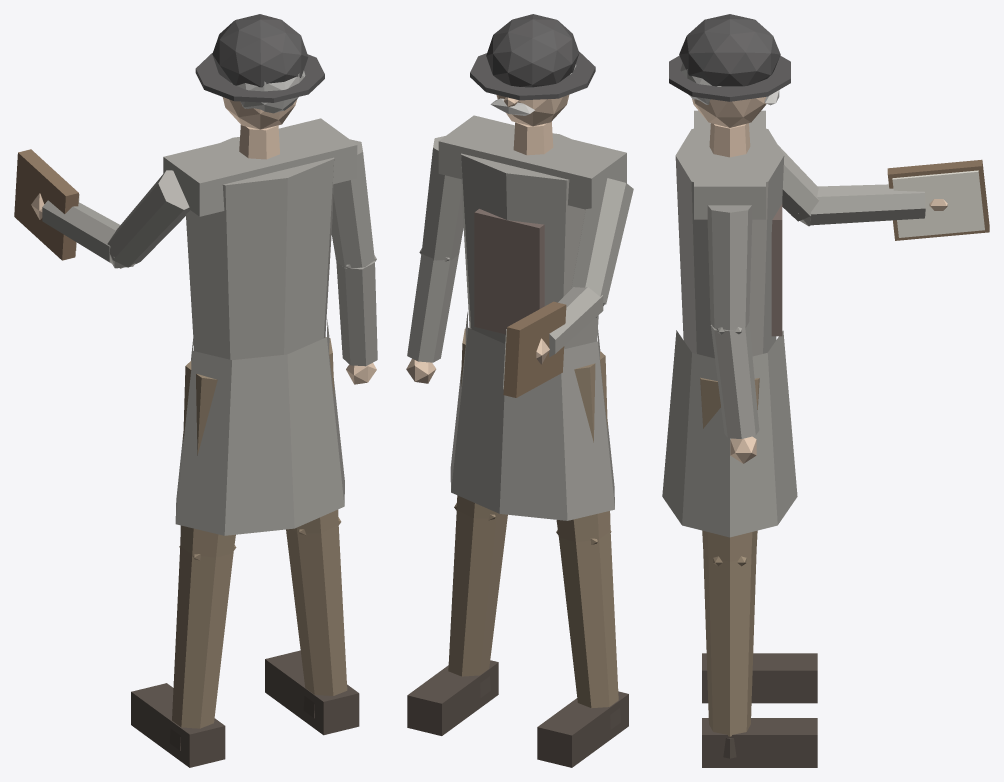
Rendered from toll_keeper.glb.
3 views of the same model, side by side, from view 1: azimuth 30°, elevation 25°; view 2: azimuth 150°, elevation 25°; view 3: azimuth 270°, elevation 25° (orthographic). The views are drawn at different scales.
Visible parts, largest first — view 1: tweed_grey, tweed_brown, boot, wool_black, leather, skin, hair_grey; view 2: tweed_grey, tweed_brown, boot, wool_black, waistcoat, leather, skin, hair_grey; view 3: tweed_grey, tweed_brown, boot, wool_black, paper, skin, leather, waistcoat.
Boxes of the visible parts, x1,y1,x2,y2 form: tweed_grey: [42, 118, 377, 535]; tweed_brown: [172, 337, 347, 728]; boot: [131, 650, 359, 767]; wool_black: [195, 14, 324, 102]; leather: [14, 149, 78, 260]; skin: [31, 97, 376, 384]; hair_grey: [231, 70, 305, 113]; tweed_grey: [407, 115, 633, 520]; tweed_brown: [448, 327, 618, 708]; boot: [407, 660, 628, 767]; wool_black: [470, 14, 595, 100]; waistcoat: [474, 209, 544, 334]; leather: [503, 301, 566, 397]; skin: [406, 95, 569, 383]; hair_grey: [490, 64, 576, 115]; tweed_grey: [662, 110, 925, 537]; tweed_brown: [700, 377, 759, 736]; boot: [702, 653, 817, 767]; wool_black: [669, 14, 790, 101]; paper: [892, 170, 984, 237]; skin: [692, 97, 947, 463]; leather: [887, 159, 989, 240]; waistcoat: [771, 204, 782, 336].
Size of the model in its own units: 0.6406 by 1.81 by 0.7574.
